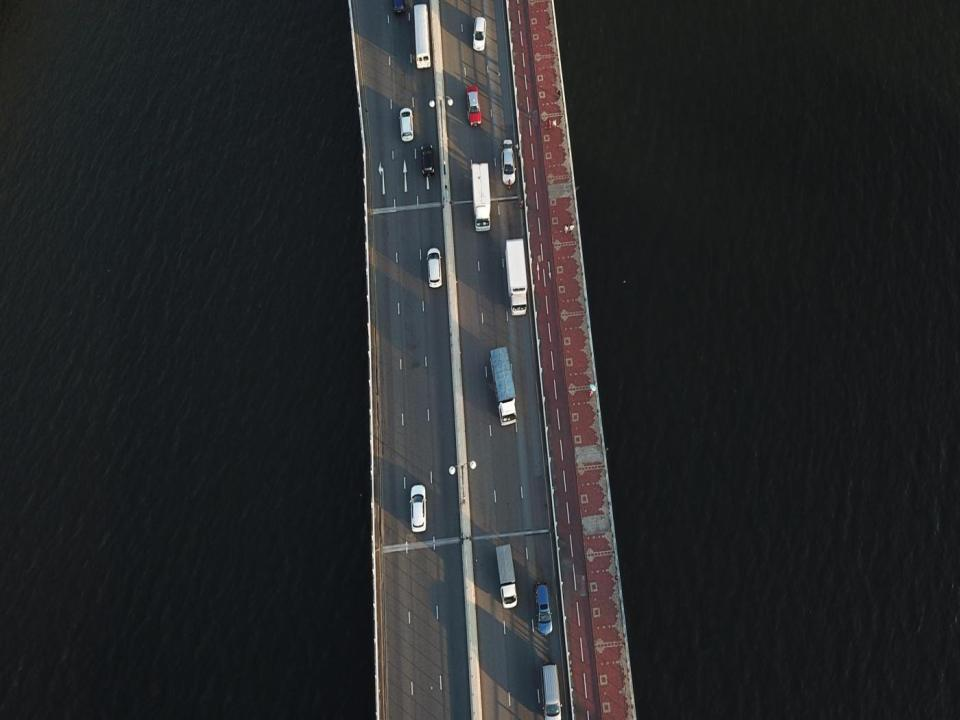bus: (412, 4, 432, 71)
car: (535, 582, 553, 638), (409, 484, 428, 532), (500, 140, 516, 184), (466, 86, 482, 129), (426, 248, 442, 290), (399, 107, 414, 141), (472, 17, 487, 51), (422, 144, 435, 176), (393, 0, 406, 15)
truck: (489, 346, 518, 426), (505, 239, 528, 317), (494, 544, 518, 611), (470, 162, 491, 231)
van: (541, 663, 562, 719)
